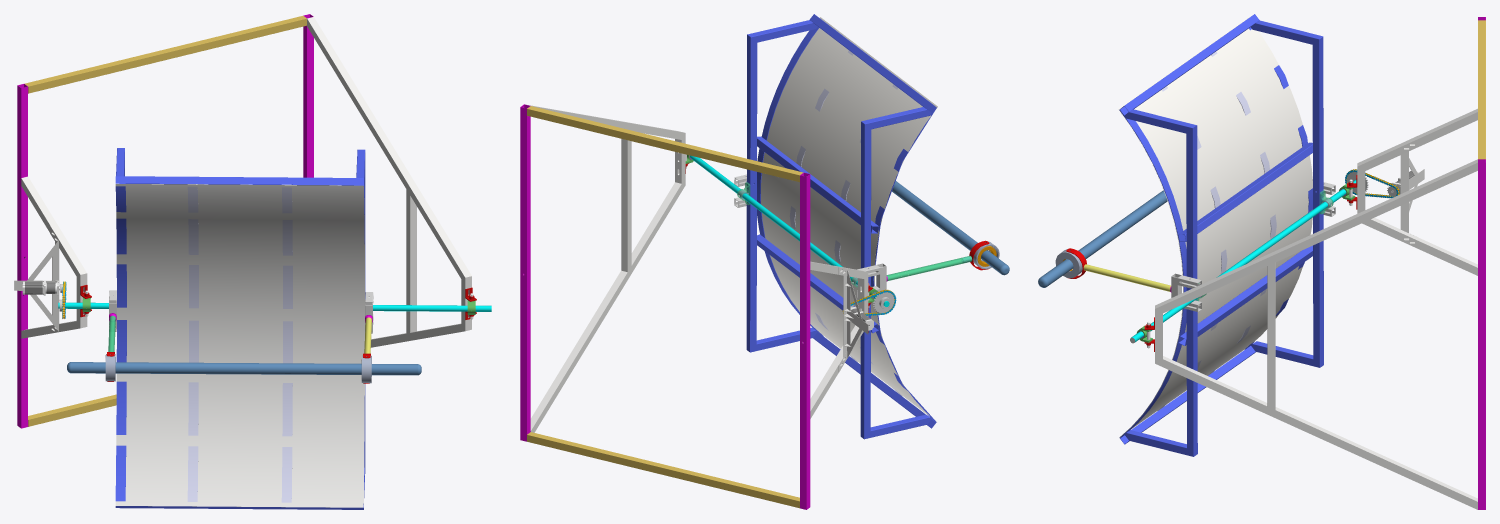
The model's file is Montagem_F2.gltf.
The picture shows the model from 3 angles, left to right: view 1: azimuth 30°, elevation 25°; view 2: azimuth 150°, elevation 25°; view 3: azimuth 270°, elevation 25°; orthographic projection. The views are drawn at different scales.
Parts seen in each view (by area): view 1: Solid1:15, Solid1:25, Solid1:32, Solid1:21, Solid1:6, Solid1:23, Solid1:8, Solid1:13, Solid1:14, Solid1, Solid1:24, Solid1:33 (+2 smaller); view 2: Solid1:15, Solid1:6, Solid1:25, Solid1:7, Solid1:21, Solid1:24, Solid1:23, Solid1:22, Solid1, Solid1:32, Solid1:33, Solid1:26 (+2 smaller); view 3: Solid1:15, Solid1:6, Solid1:25, Solid1:7, Solid1, Solid1:24, Solid1:32, Solid1:26, Solid1:27, Solid1:23, Solid1:33, Solid1:13 (+1 smaller).
Part boxes in pixels (x1,y1,x2,y2): Solid1:15: [115, 183, 364, 507]; Solid1:25: [307, 17, 471, 347]; Solid1:32: [67, 362, 421, 375]; Solid1:21: [17, 84, 27, 428]; Solid1:6: [115, 149, 365, 509]; Solid1:23: [24, 16, 306, 93]; Solid1:8: [115, 183, 126, 501]; Solid1:13: [187, 184, 198, 501]; Solid1:14: [281, 184, 292, 502]; Solid1: [21, 176, 87, 338]; Solid1:24: [303, 14, 313, 177]; Solid1:33: [14, 226, 59, 333]; Solid1:15: [761, 17, 937, 421]; Solid1:6: [746, 14, 936, 428]; Solid1:25: [526, 104, 685, 432]; Solid1:7: [860, 107, 931, 439]; Solid1:21: [800, 172, 810, 509]; Solid1:24: [520, 104, 530, 441]; Solid1:23: [527, 106, 803, 182]; Solid1:22: [527, 432, 799, 508]; Solid1: [810, 261, 868, 418]; Solid1:32: [892, 181, 1009, 275]; Solid1:33: [838, 267, 868, 372]; Solid1:26: [690, 155, 889, 306]; Solid1:15: [1118, 17, 1312, 437]; Solid1:6: [1119, 14, 1312, 456]; Solid1:25: [1155, 159, 1477, 509]; Solid1:7: [1251, 20, 1323, 367]; Solid1: [1357, 108, 1477, 275]; Solid1:24: [1478, 159, 1485, 509]; Solid1:32: [1038, 190, 1167, 287]; Solid1:26: [1130, 180, 1356, 343]; Solid1:27: [1083, 264, 1201, 311]; Solid1:23: [1478, 20, 1485, 159]; Solid1:33: [1391, 137, 1424, 236]; Solid1:13: [1207, 51, 1276, 375].
Bounding box in the file's own units: 2232 × 1906 × 2227.
